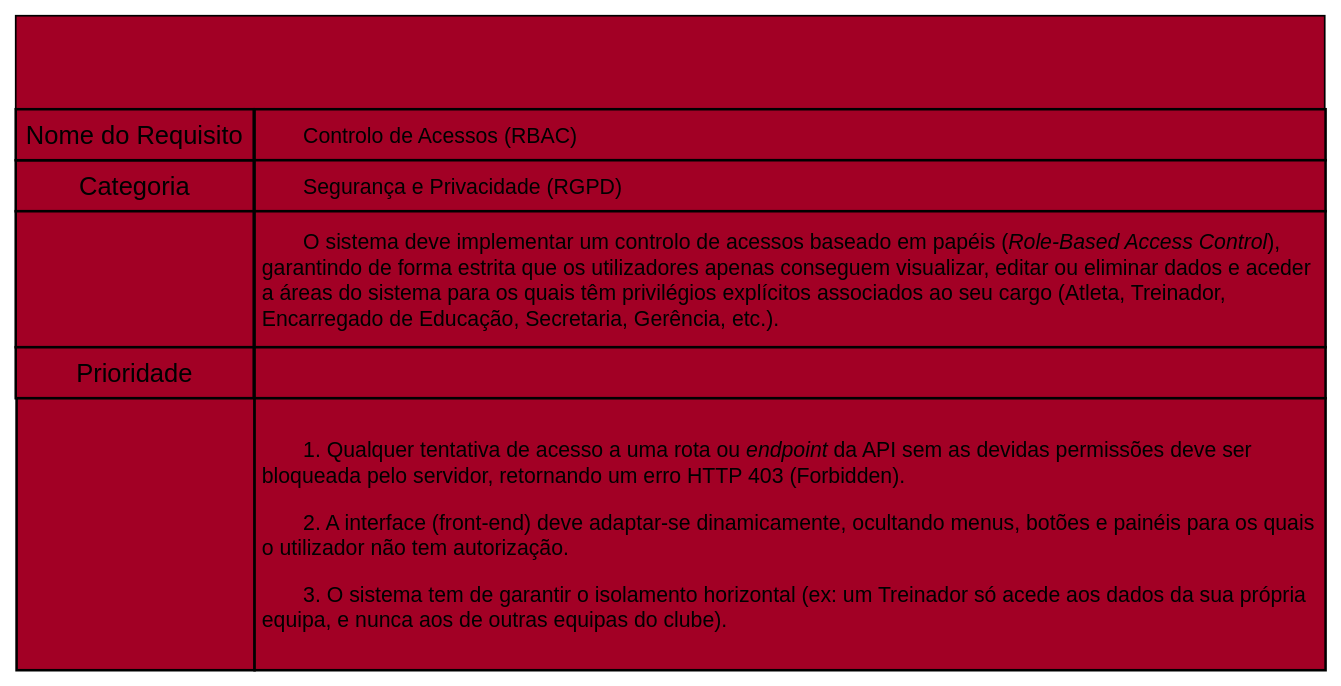
This 1341x686 diagram has some shape labels left out. Each missing label, with the centre of its shape:
"Alta" goes at (789,372).
"Critério de Verificação" goes at (135,534).
"Descrição" goes at (134,279).
"RNF-03" goes at (669,62).
